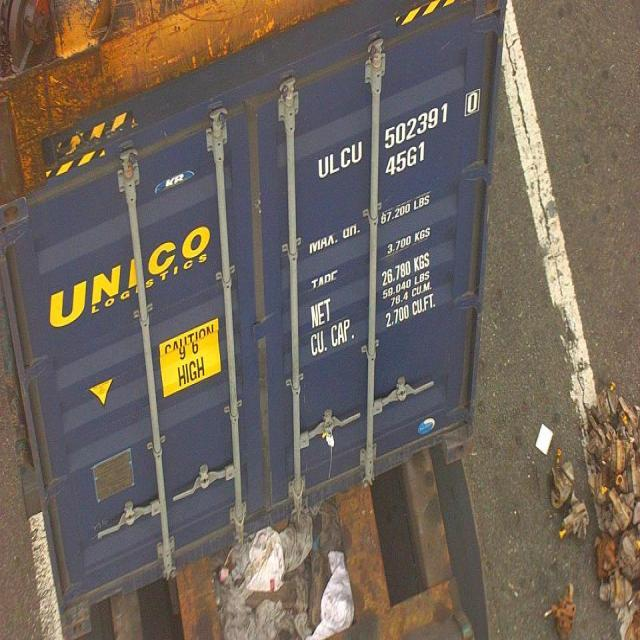ISO: (383, 142, 424, 189)
container_number: (316, 86, 482, 178)
